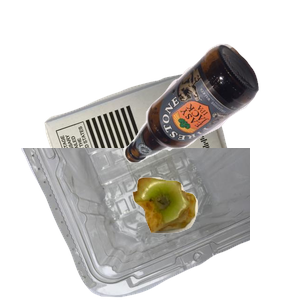glass: (120, 41, 300, 196)
paper: (42, 68, 275, 248)
plastic: (19, 148, 259, 300)
trash: (130, 175, 300, 300)
